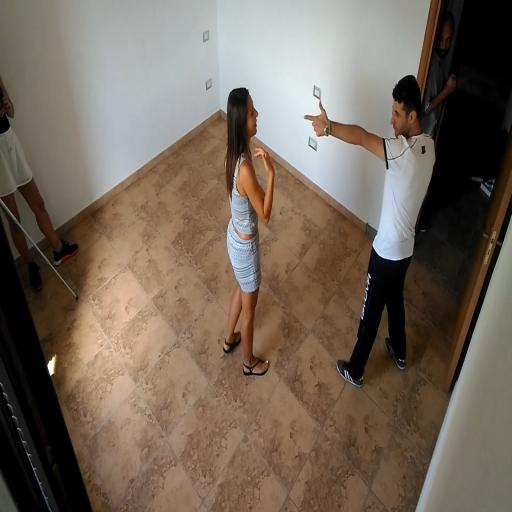nao-violencia: (222, 42, 439, 421)
